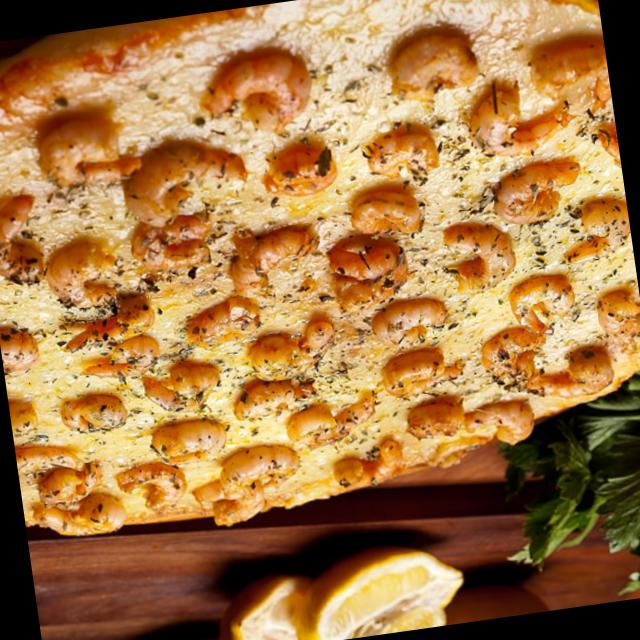camarao: (117, 121, 262, 232), (195, 44, 331, 144), (460, 79, 576, 168), (26, 106, 140, 192), (319, 228, 425, 318), (222, 221, 326, 312), (378, 23, 488, 106), (490, 154, 598, 234), (526, 27, 612, 122), (42, 231, 127, 322), (243, 314, 346, 388), (440, 218, 524, 298), (27, 488, 134, 550), (282, 394, 388, 456), (553, 196, 635, 275), (377, 342, 470, 409), (478, 319, 552, 402), (0, 185, 53, 298), (536, 346, 626, 412), (370, 294, 463, 355), (359, 123, 435, 194), (506, 270, 583, 340), (213, 438, 302, 498), (115, 457, 192, 523), (468, 392, 546, 452), (192, 474, 268, 535), (153, 416, 230, 472), (80, 336, 162, 386), (589, 275, 639, 348), (592, 109, 622, 178)
pizza: (0, 0, 639, 548)
